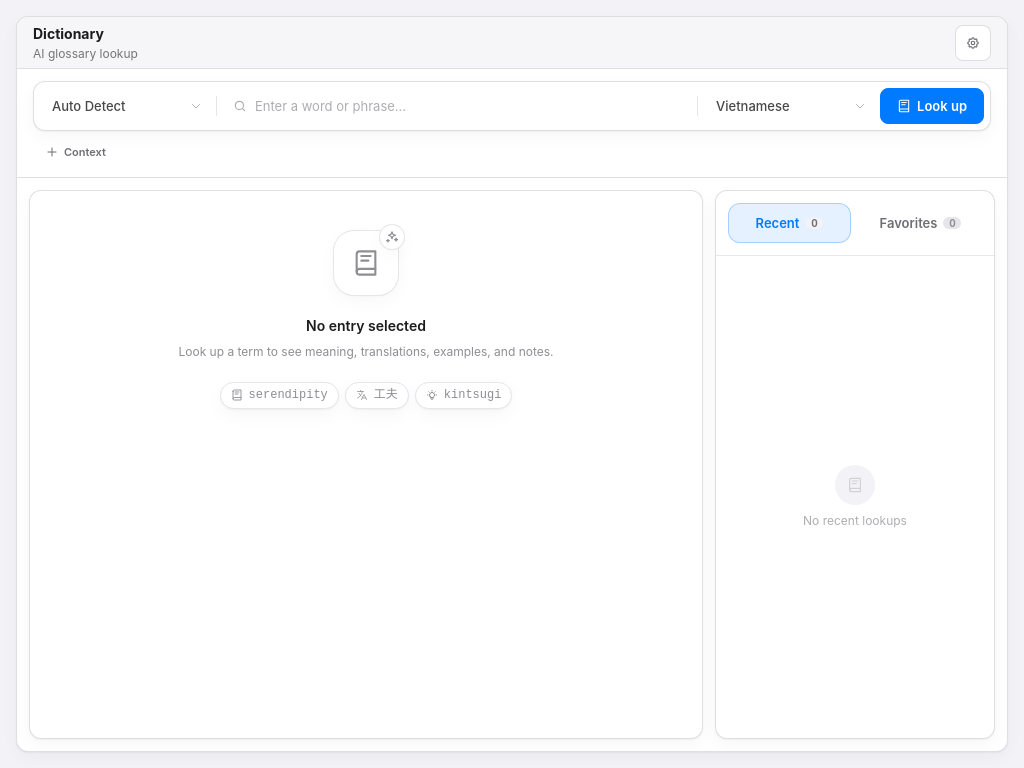
Test: DictionaryPage › runs lookup and saves a result entry
The width and height of the screenshot is (1024, 768).
Type "工夫" into the field with placeholder "Enter a word or phrase…".
click(457, 106); type("工夫")  # box [223,88,691,124]
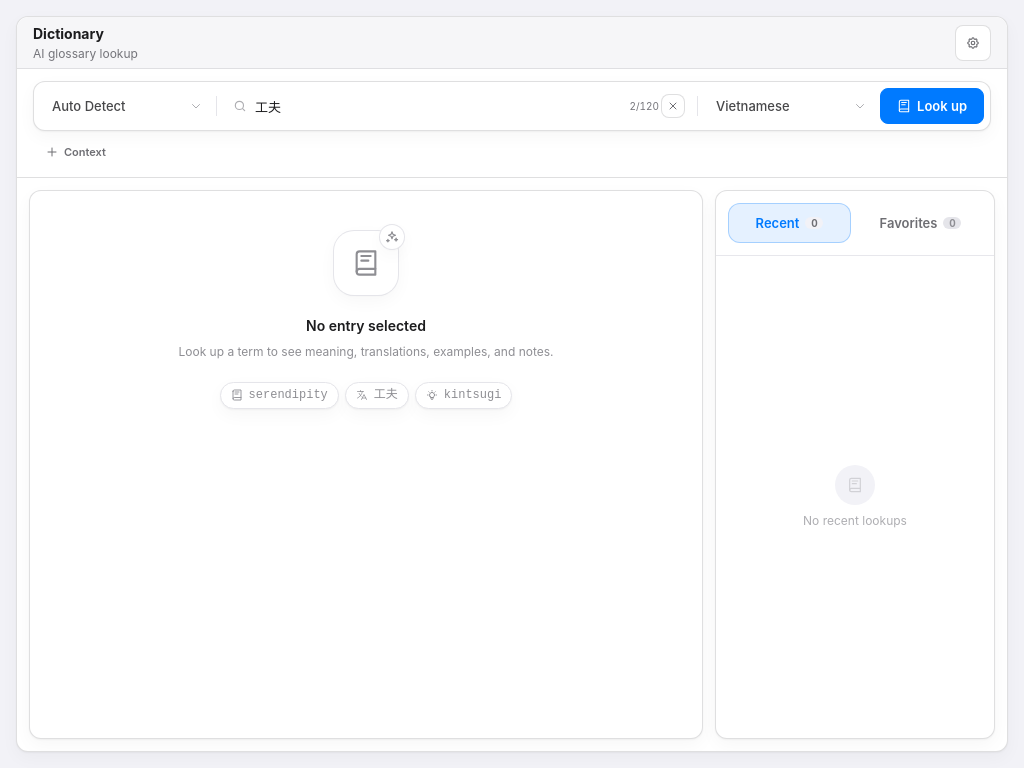
Click the button "Look up".
click(932, 106)  # box [880,88,984,124]
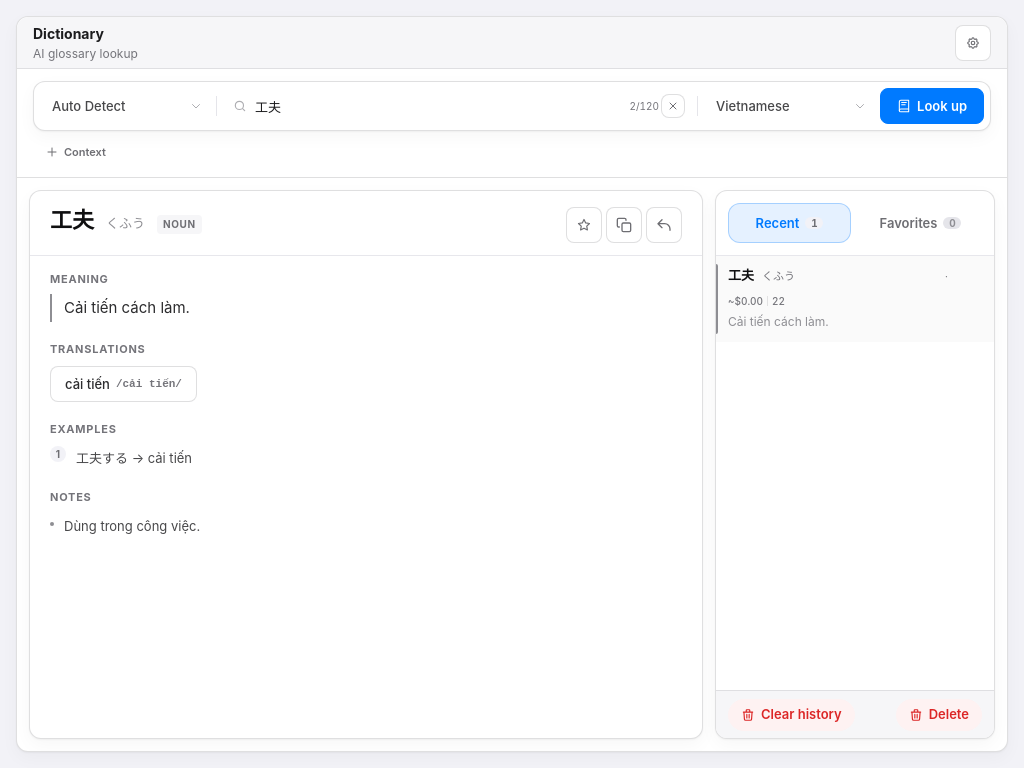
Now the text "Cải tiến cách làm." below "Meaning" is shown, box [64,298,190,317]
